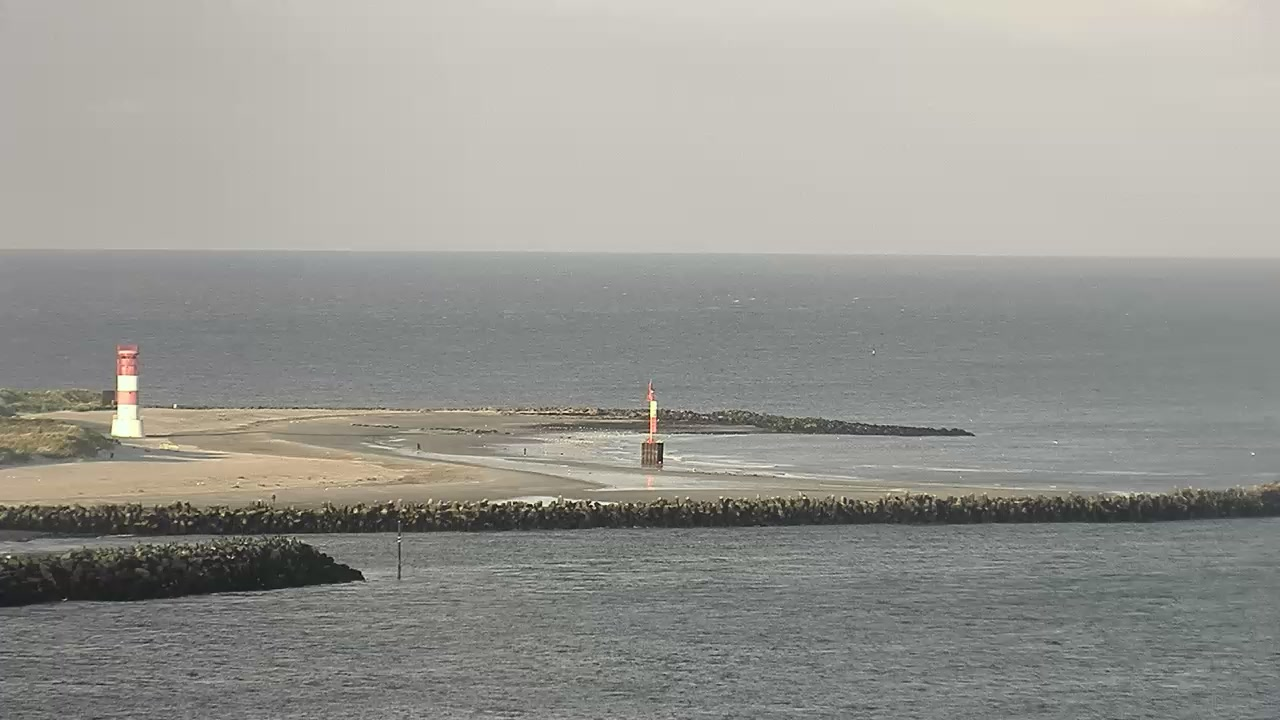human: (415, 442, 422, 452), (271, 492, 277, 503), (523, 446, 527, 455)
